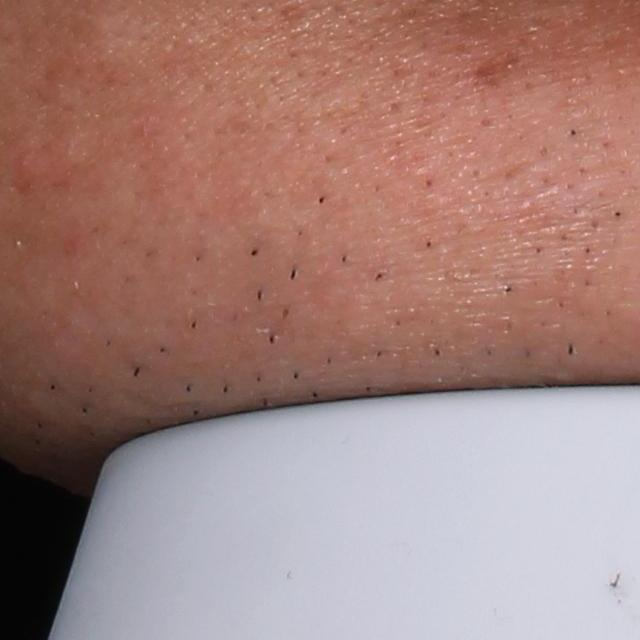hypertrophic_scar: (71, 2, 148, 77)
